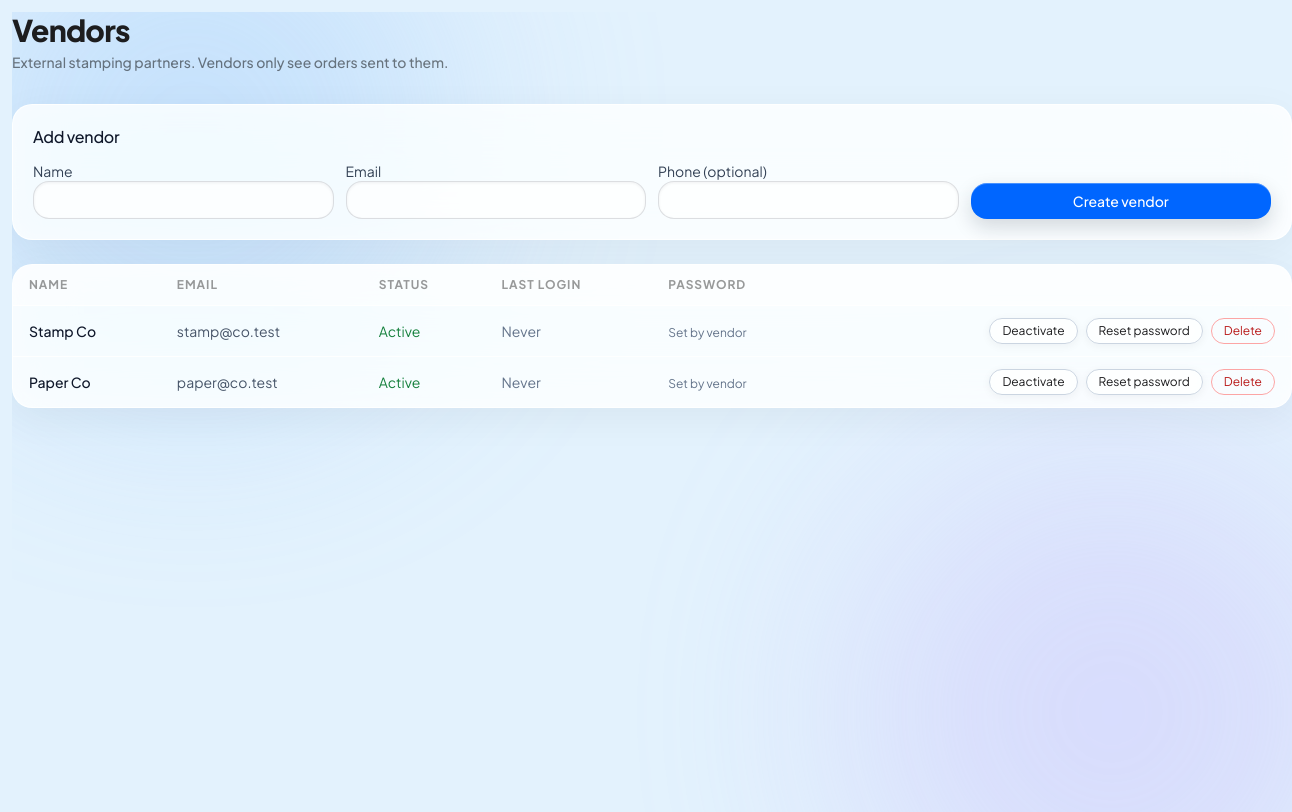
Reset password › shows the server error
This screenshot has width=1292, height=812.
Click the button with aria-label "Reset password for Stamp Co" at (1144, 331), box [1086, 318, 1203, 344]
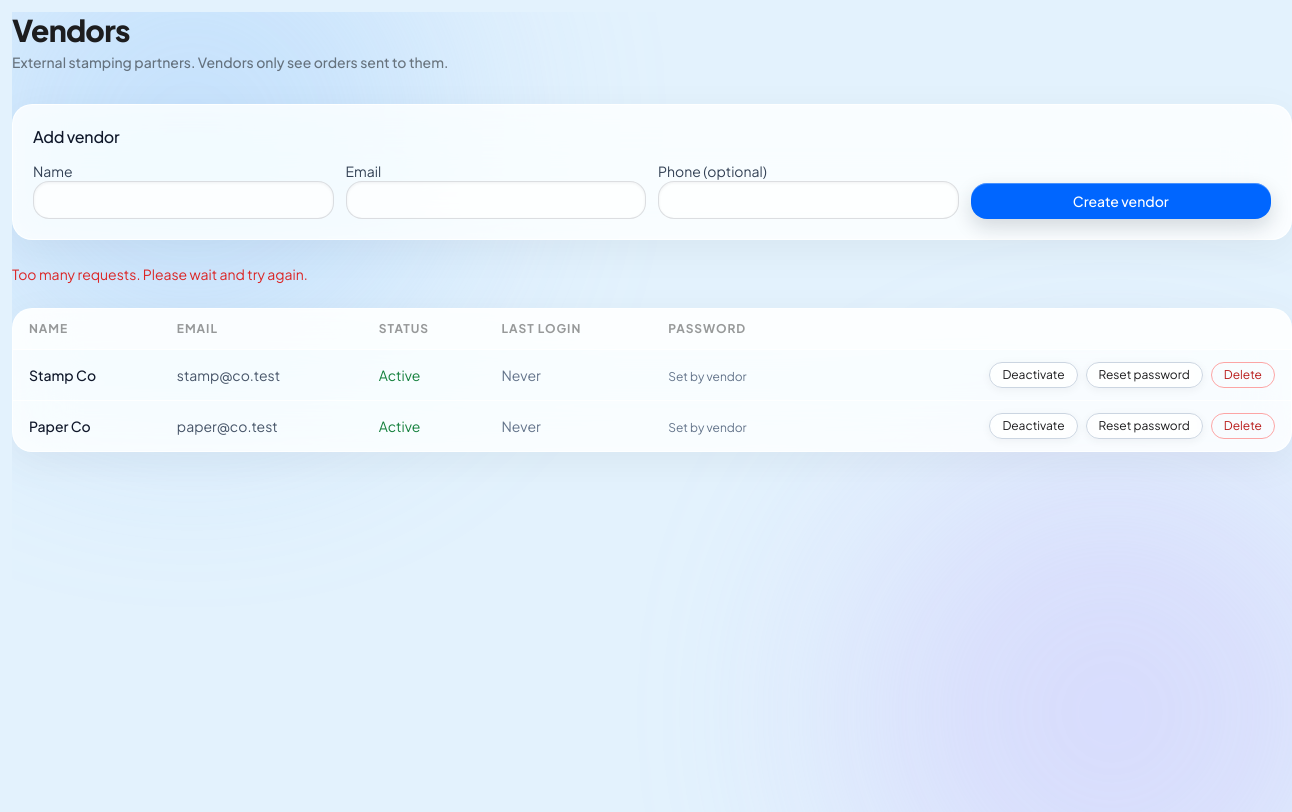
Result: the message shows "Too many requests" at [12, 265, 308, 283]
